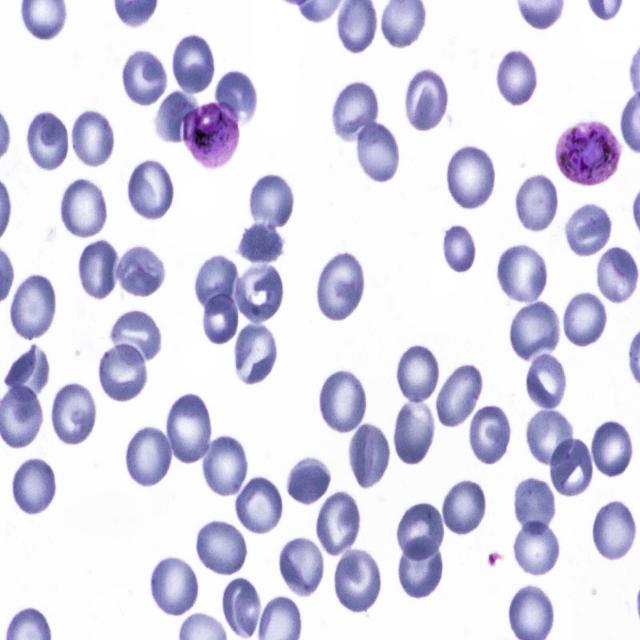difficult: (181, 102, 240, 172)
red blood cell: (315, 247, 366, 323), (165, 388, 211, 466), (316, 368, 368, 436), (435, 363, 485, 429), (496, 243, 549, 305), (96, 342, 149, 404), (332, 546, 380, 614), (126, 157, 177, 221), (148, 554, 200, 616), (446, 144, 495, 209), (193, 250, 242, 315), (509, 302, 560, 364), (395, 500, 445, 563), (9, 272, 55, 340), (1, 342, 52, 403), (278, 537, 326, 600), (125, 426, 173, 489), (315, 491, 360, 558), (52, 380, 97, 447), (234, 320, 278, 388), (331, 80, 379, 142), (236, 262, 284, 324), (195, 519, 247, 576), (25, 109, 71, 173), (354, 120, 399, 185), (397, 536, 442, 601), (204, 433, 248, 498), (12, 456, 58, 518), (59, 178, 108, 236), (234, 474, 282, 533), (392, 400, 433, 469), (121, 47, 168, 107), (395, 342, 439, 406), (110, 309, 162, 363), (525, 409, 574, 466), (171, 32, 215, 95), (590, 500, 636, 560), (405, 67, 447, 132), (563, 291, 609, 350), (115, 244, 165, 298), (512, 519, 560, 575), (153, 87, 201, 143), (548, 438, 594, 496), (349, 426, 392, 488), (513, 477, 558, 536), (78, 238, 120, 301), (515, 173, 559, 233), (250, 170, 294, 230), (565, 203, 613, 257), (285, 453, 333, 507), (468, 406, 512, 464), (524, 355, 568, 412), (495, 48, 537, 107), (72, 108, 114, 167), (221, 576, 261, 637), (442, 480, 486, 535), (592, 421, 633, 479), (597, 247, 638, 301), (215, 70, 258, 121), (237, 222, 287, 264), (201, 290, 239, 344), (442, 222, 475, 274)
schizont: (555, 119, 624, 187)
